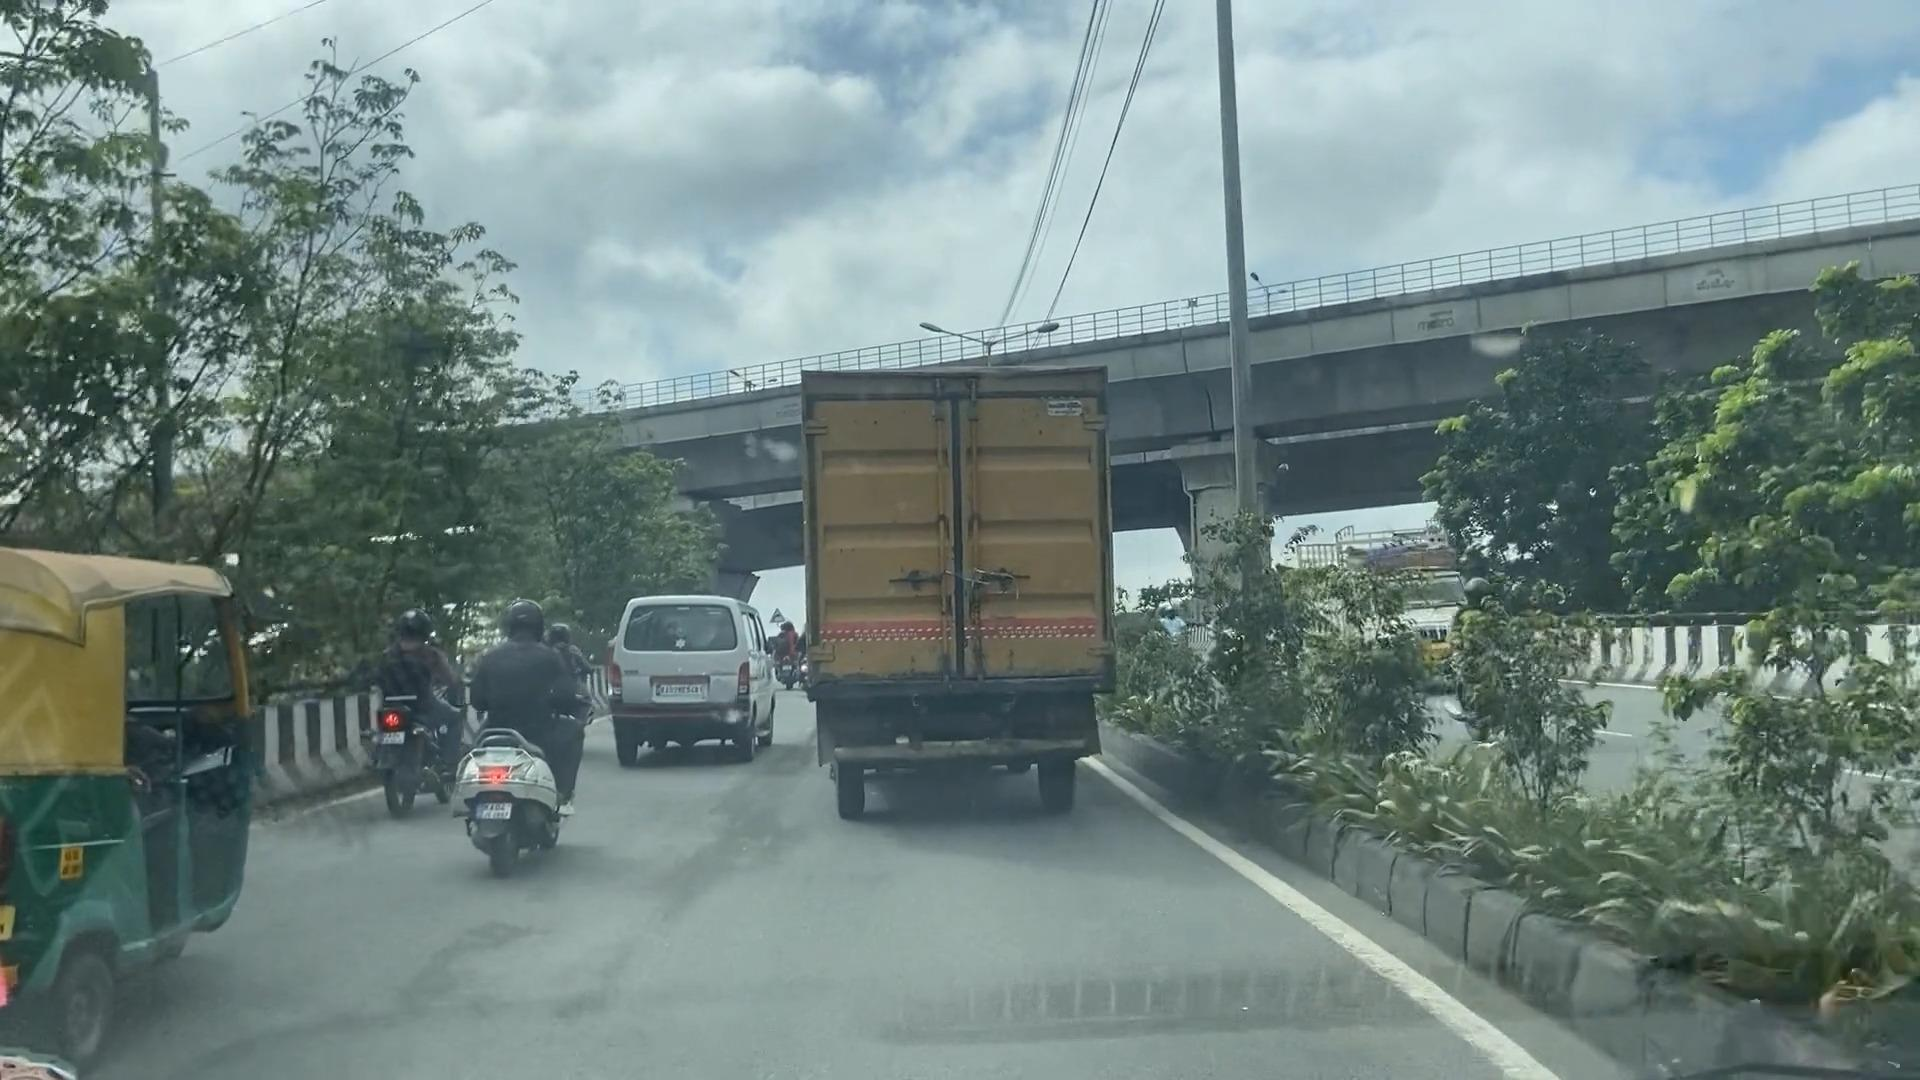HMV: (807, 373, 1108, 795)
LMV: (0, 560, 264, 1009), (607, 593, 758, 766), (480, 607, 559, 858), (378, 613, 447, 819)
